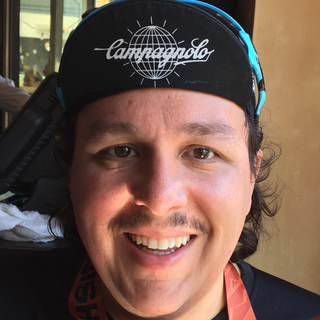eye: (178, 142, 227, 166), (98, 141, 147, 164)
